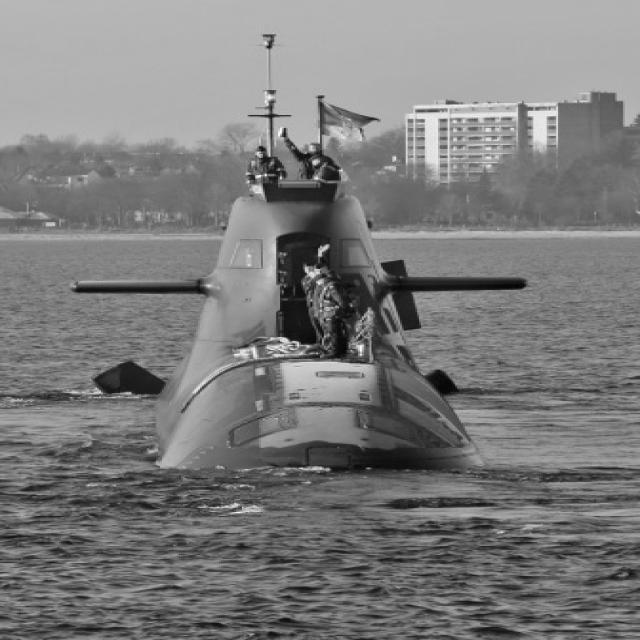submarine: (56, 29, 542, 475)
